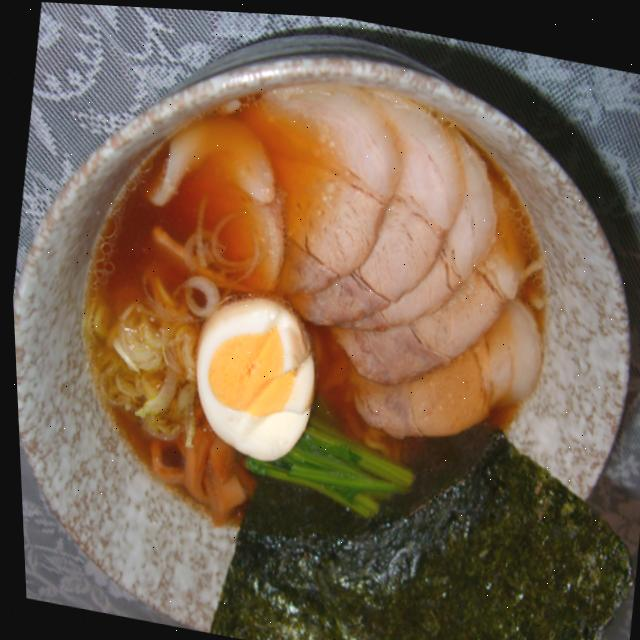面条主食: (27, 22, 586, 580)
